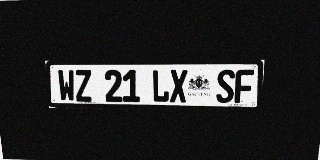1: (122, 70, 140, 102)
2: (104, 70, 122, 102)
F: (234, 69, 254, 103)
L: (152, 70, 169, 102)
S: (216, 70, 235, 103)
W: (57, 70, 76, 102)
X: (170, 70, 187, 103)
Z: (74, 70, 93, 102)
